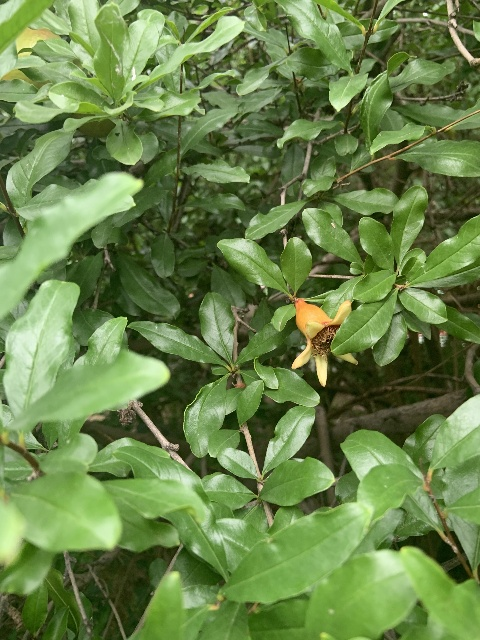early-fruit: (292, 296, 357, 387)
